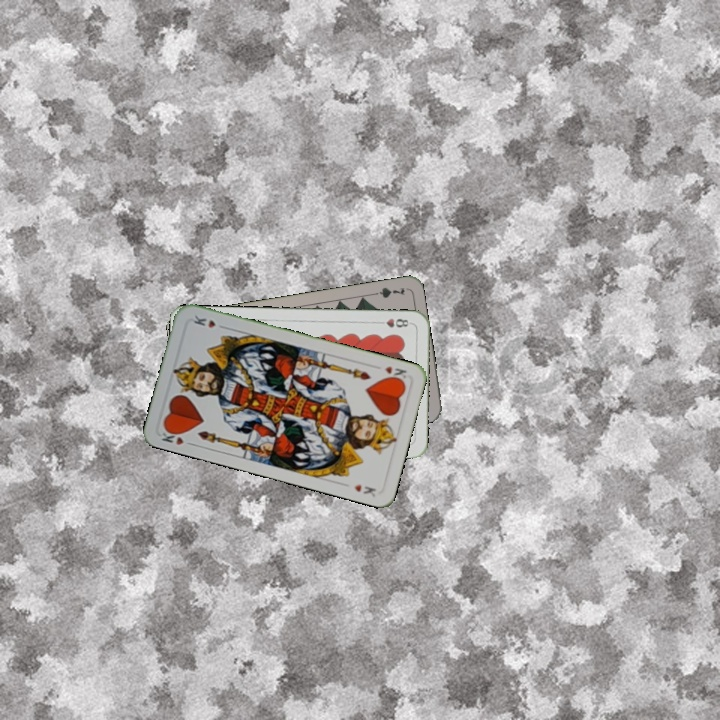G7: (367, 283, 407, 301)
H8: (373, 315, 414, 330)
HK: (157, 424, 197, 448), (381, 362, 409, 381)
